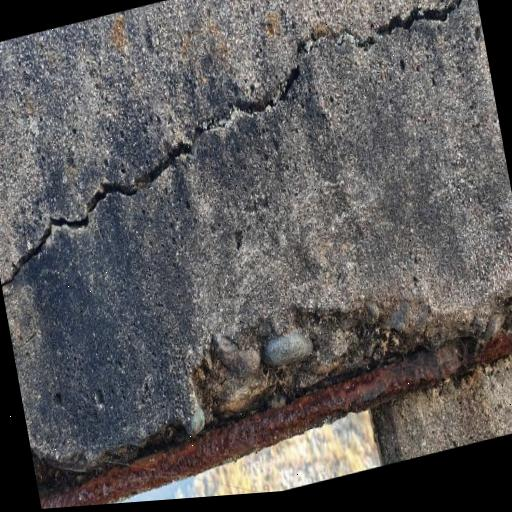exposed_rebar: (39, 320, 512, 509)
spalling: (31, 293, 512, 509)
